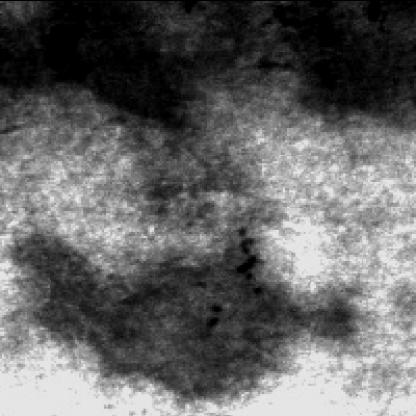patches: (16, 231, 362, 401), (12, 4, 254, 137), (264, 6, 416, 122)
